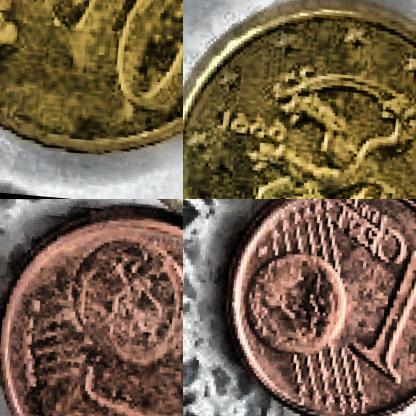coin: (183, 0, 415, 198), (214, 199, 415, 415), (0, 203, 182, 415), (0, 0, 182, 173)
